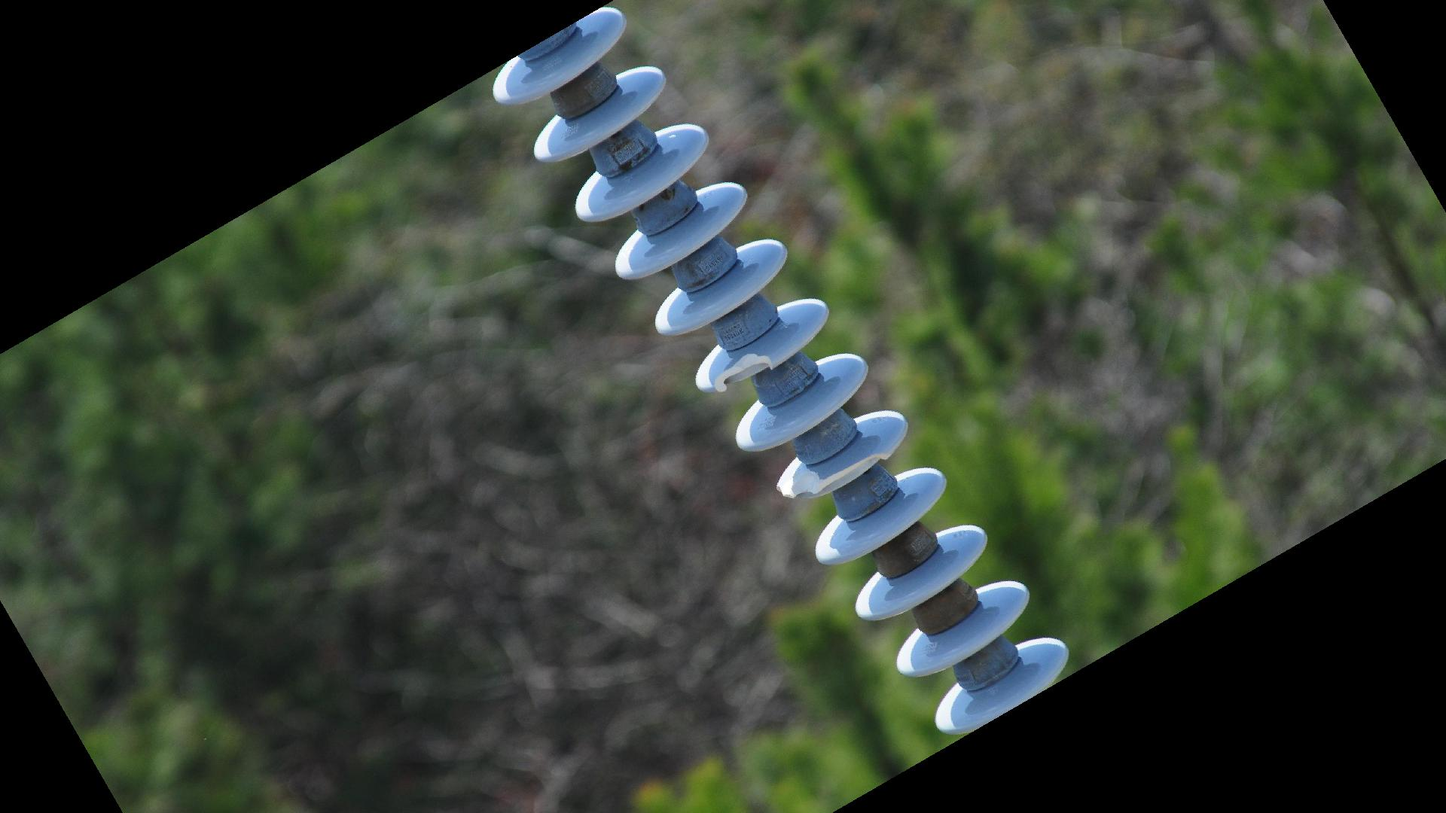insulator: (484, 1, 1078, 741)
insulator_breakage: (770, 443, 895, 501), (705, 348, 779, 400)
